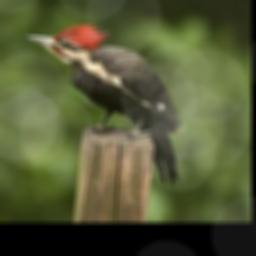Woodpecker: (20, 17, 195, 189)
